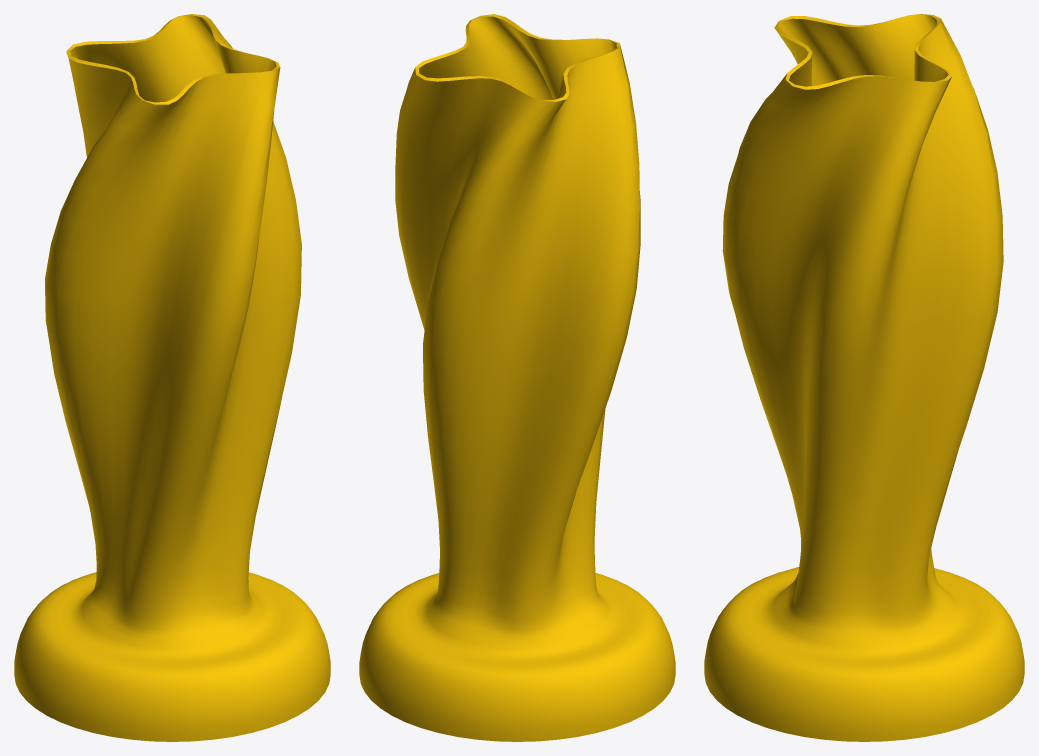
File: trophy.gltf
3 renders of one model, left to right at view 1: azimuth 30°, elevation 25°; view 2: azimuth 150°, elevation 25°; view 3: azimuth 270°, elevation 25°, orthographic.
Parts seen in each view (by area): view 1: NGon001; view 2: NGon001; view 3: NGon001.
Boxes of the visible parts, x1,y1,x2,y2 form: NGon001: [14, 14, 330, 741]; NGon001: [359, 14, 675, 741]; NGon001: [704, 14, 1024, 741].
Size of the model in its own units: 16.04 by 34.61 by 16.04.
